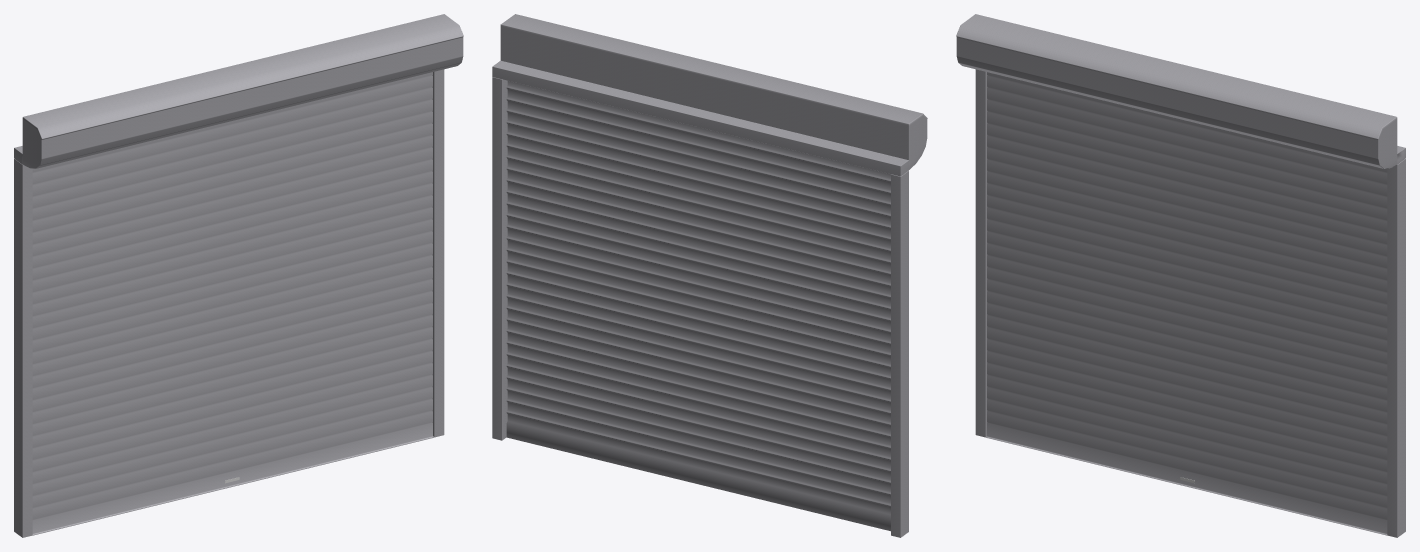
File: Shutter_Closed.glb
The picture shows the model from 3 angles, left to right: view 1: azimuth 30°, elevation 25°; view 2: azimuth 150°, elevation 25°; view 3: azimuth 330°, elevation 25°; orthographic projection. The views are drawn at different scales.
Visible parts, largest first — view 1: roller garage doors.001; view 2: roller garage doors.001; view 3: roller garage doors.001.
Part boxes in pixels (x1=…): roller garage doors.001: x1=14, y1=14, x2=463, y2=537; roller garage doors.001: x1=492, y1=14, x2=927, y2=537; roller garage doors.001: x1=956, y1=14, x2=1405, y2=537.
Size of the model in its own units: 5.56 by 5.31 by 0.6382.
2 materials, 1 textured.
